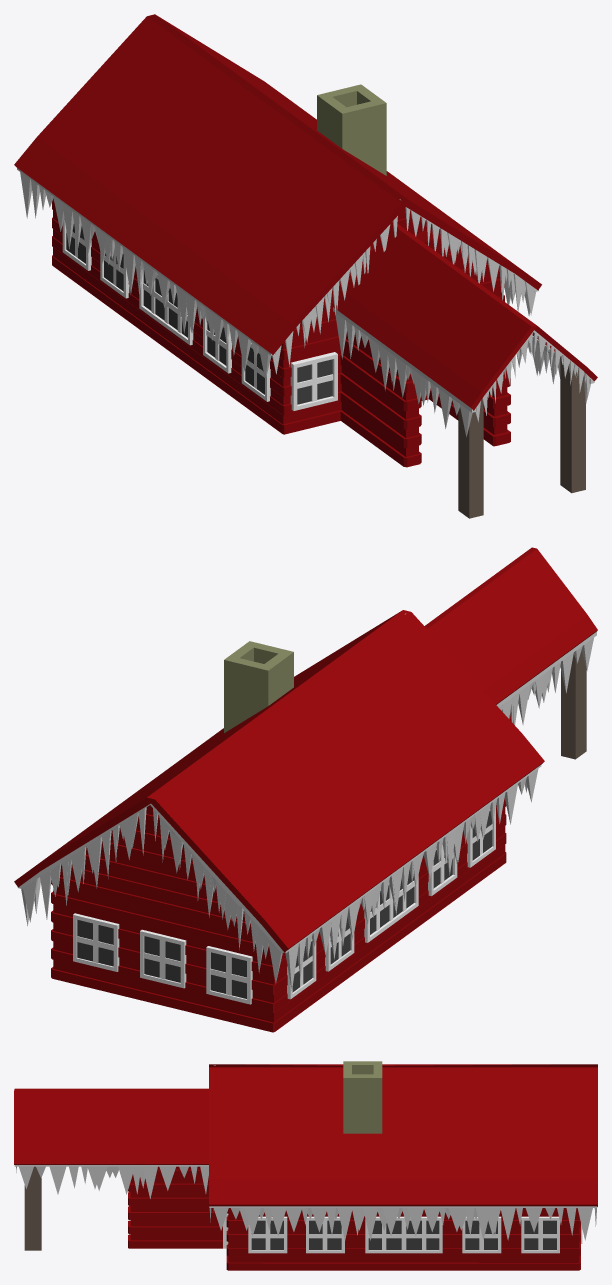
File: christmashouse.fbx
The picture shows the model from 3 angles, top to bottom: view 1: azimuth 30°, elevation 25°; view 2: azimuth 150°, elevation 25°; view 3: azimuth 270°, elevation 25°; orthographic projection. The views are drawn at different scales.
Visible parts, largest first — view 1: Cube, Cube.003, Cube.001, Cube.004, Cube.005, Plane.058, Plane.060, Cube.002, Plane.061, Plane.073, Plane.063, Plane.064 (+8 smaller); view 2: Cube, Cube.001, Plane.065, Cube.005, Plane.060, Plane.061, Plane.068, Plane.063, Plane.069, Plane.064, Plane.062, Plane.048 (+8 smaller); view 3: Cube, Cube.002, Cube.001, Plane.055, Plane.051, Plane.052, Plane.053, Cube.004, Plane.056, Plane.030, Plane.057, Plane.054 (+11 smaller).
Part boxes in pixels (bbox=[...]): Cube: bbox=[14, 14, 597, 434]; Cube.003: bbox=[339, 331, 421, 467]; Cube.001: bbox=[317, 84, 386, 175]; Cube.004: bbox=[560, 356, 585, 493]; Cube.005: bbox=[458, 399, 483, 518]; Plane.058: bbox=[333, 307, 428, 405]; Plane.060: bbox=[378, 344, 476, 437]; Cube.002: bbox=[429, 368, 510, 446]; Plane.061: bbox=[177, 287, 275, 379]; Plane.073: bbox=[440, 228, 535, 315]; Plane.063: bbox=[17, 168, 113, 264]; Plane.064: bbox=[124, 248, 217, 340]; Cube: bbox=[14, 547, 597, 1032]; Cube.001: bbox=[224, 641, 293, 732]; Plane.065: bbox=[20, 803, 150, 922]; Cube.005: bbox=[561, 650, 586, 759]; Plane.060: bbox=[499, 631, 596, 724]; Plane.061: bbox=[444, 765, 541, 875]; Plane.068: bbox=[160, 822, 283, 983]; Plane.063: bbox=[282, 881, 383, 990]; Plane.069: bbox=[150, 804, 240, 926]; Plane.064: bbox=[393, 804, 487, 914]; Plane.062: bbox=[329, 849, 425, 959]; Plane.048: bbox=[144, 936, 180, 982]; Cube: bbox=[14, 1064, 597, 1270]; Cube.002: bbox=[128, 1166, 222, 1248]; Cube.001: bbox=[343, 1061, 382, 1133]; Plane.055: bbox=[14, 1165, 162, 1198]; Plane.051: bbox=[209, 1206, 356, 1240]; Plane.052: bbox=[352, 1206, 495, 1240]; Plane.053: bbox=[453, 1206, 597, 1240]; Cube.004: bbox=[24, 1166, 41, 1250]; Plane.056: bbox=[238, 1206, 382, 1240]; Plane.030: bbox=[368, 1220, 439, 1249]; Plane.057: bbox=[377, 1206, 520, 1240]; Plane.054: bbox=[87, 1165, 208, 1194].
Bounding box in the file's own units: 1235 × 1001 × 2998.
